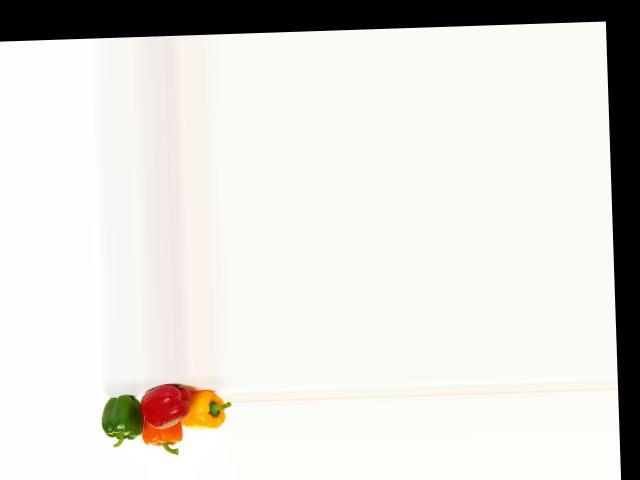bell_pepper: (100, 387, 146, 444)
